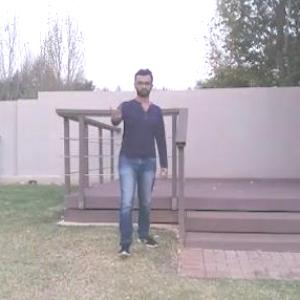takeoff-hand: (105, 94, 127, 125)
